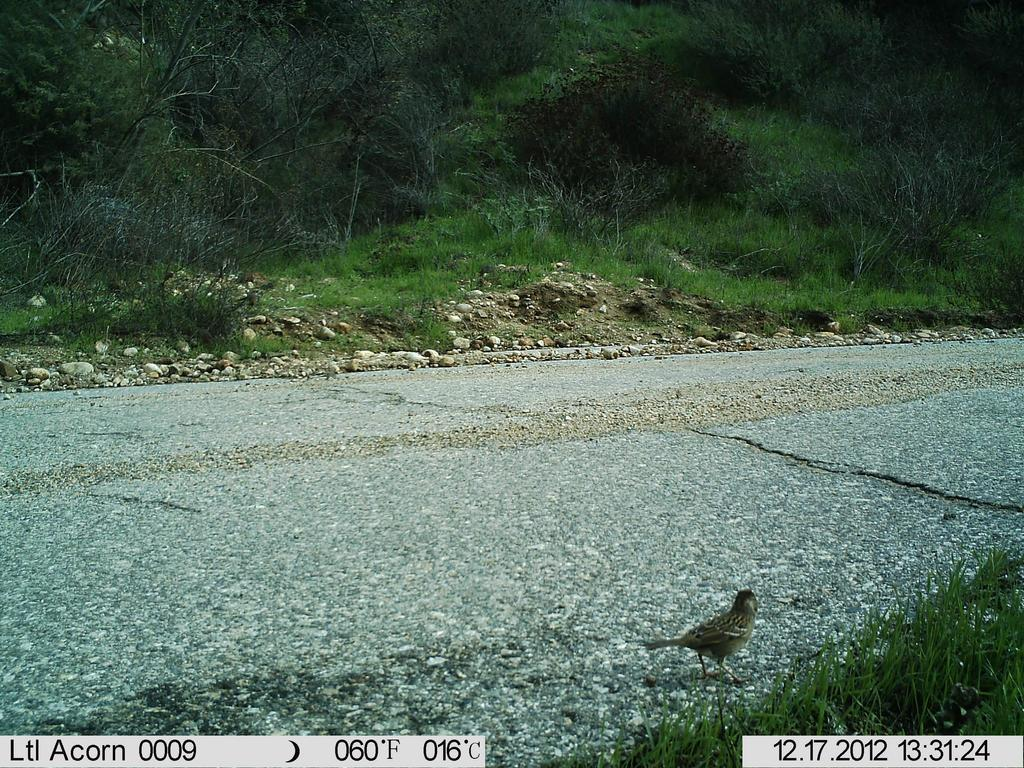bird: (639, 578, 770, 679)
